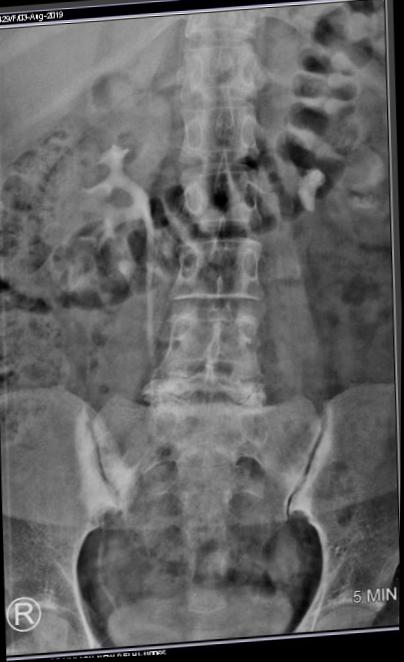vertebrae: (189, 94, 264, 160)
